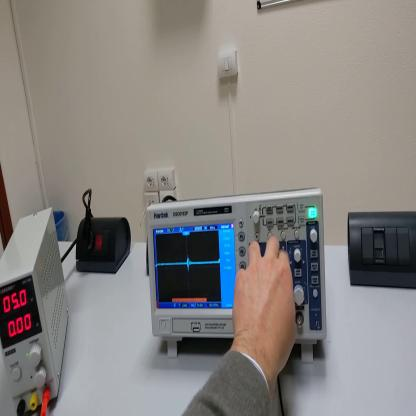hand: (232, 232, 298, 375)
oscilloscope: (144, 181, 333, 362)
power supply: (1, 209, 70, 416)
socket: (73, 217, 134, 277)
